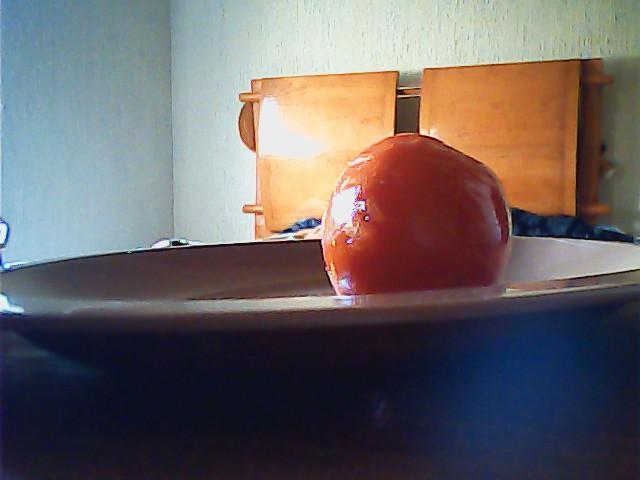maduro: (319, 129, 511, 301)
